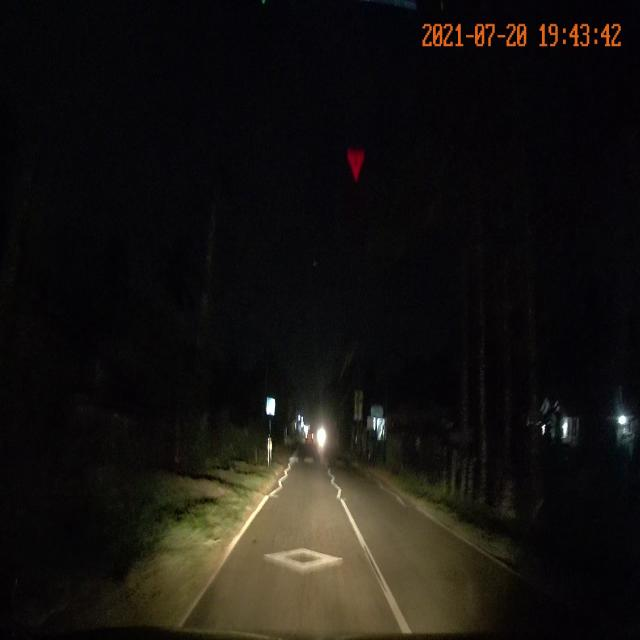diamond: (199, 530, 391, 586)
